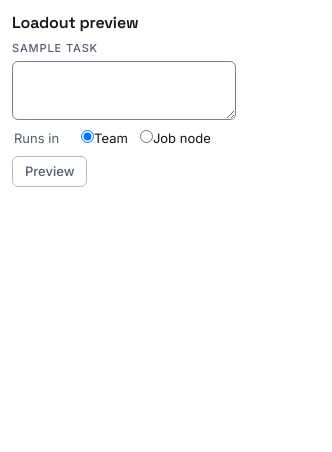
Test case: LoadoutPreview › posts the agent, the box and the task, and shows memory, tools and refs
Type "write the launch copy" into the text box labelled "Sample task" at coordinates (124, 90), box 12,61 -> 236,120
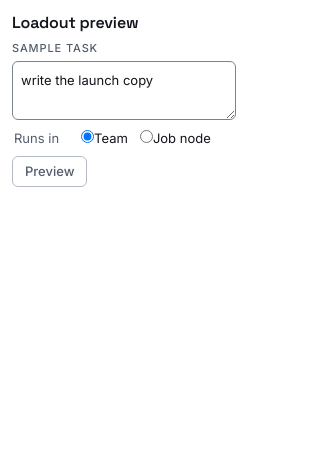
Click the radio button labelled "Job node" at coordinates (146, 136), box 140,130 -> 153,142
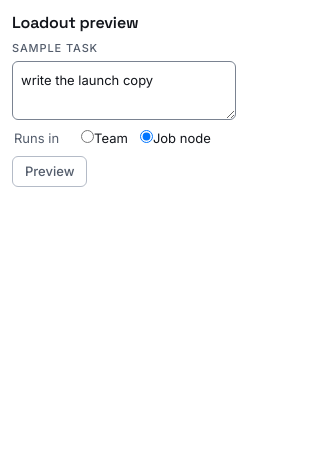
Click the button "Preview" at coordinates (50, 171), box 12,156 -> 88,187
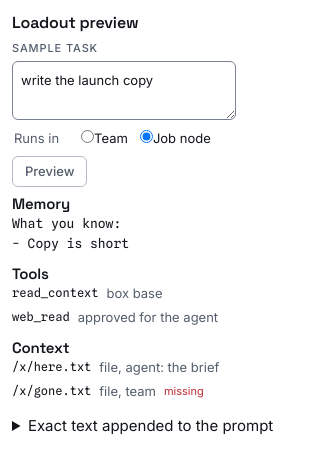
Now the element named "Memory it would receive" shows "Copy is short", box 12,215 -> 129,251
Now the text "web_read" is shown, box 12,308 -> 70,326
Now the text "approved for the agent" is shown, box 78,307 -> 218,327
